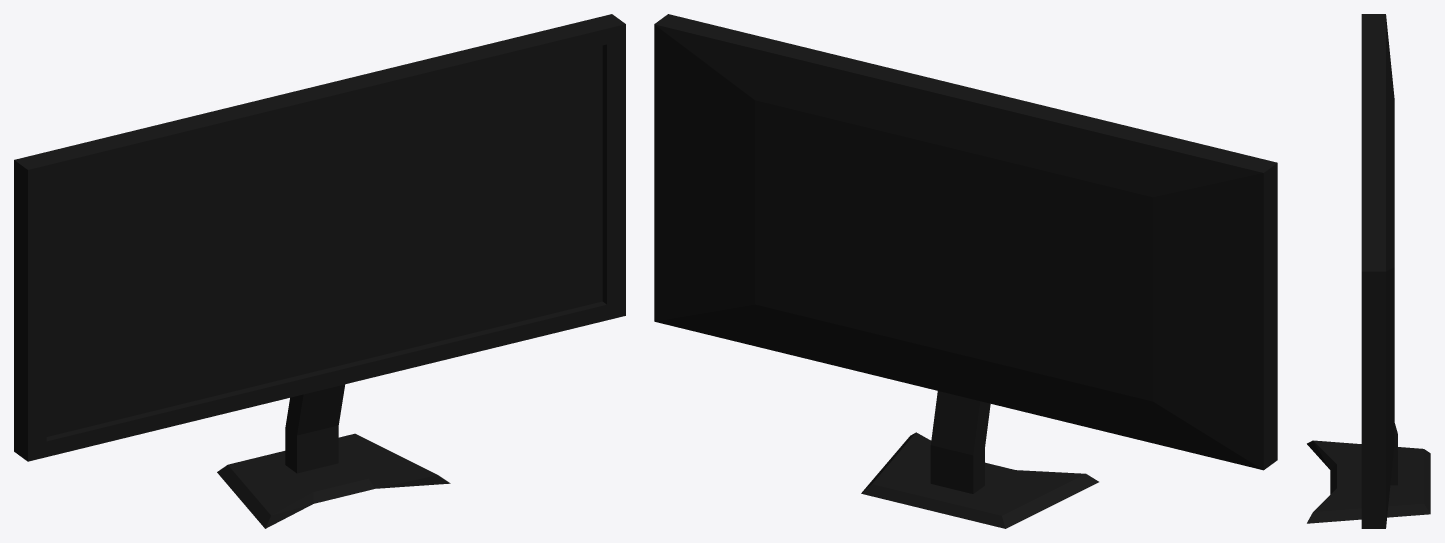
The model's file is monitor.glb.
3 views of the same model, side by side, from view 1: azimuth 30°, elevation 25°; view 2: azimuth 150°, elevation 25°; view 3: azimuth 270°, elevation 25° (orthographic). The views are drawn at different scales.
Visible parts, largest first — view 1: Monitor; view 2: Monitor; view 3: Monitor.
Part boxes in pixels (left/top/right/bottom): Monitor: left=14, top=14, right=625, bottom=528; Monitor: left=654, top=14, right=1277, bottom=528; Monitor: left=1307, top=14, right=1430, bottom=528.
Bounding box in the file's own units: 0.4696 × 0.2899 × 0.0956.
1 material, 1 textured.
